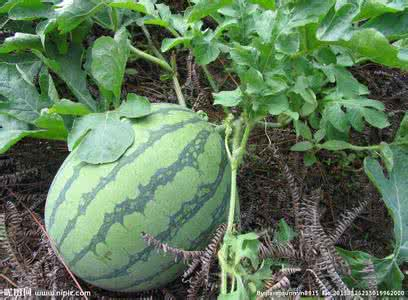watermelon: (47, 92, 232, 285)
